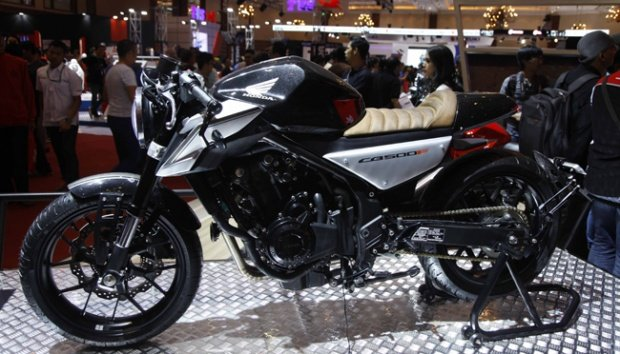motor: (26, 56, 585, 354)
